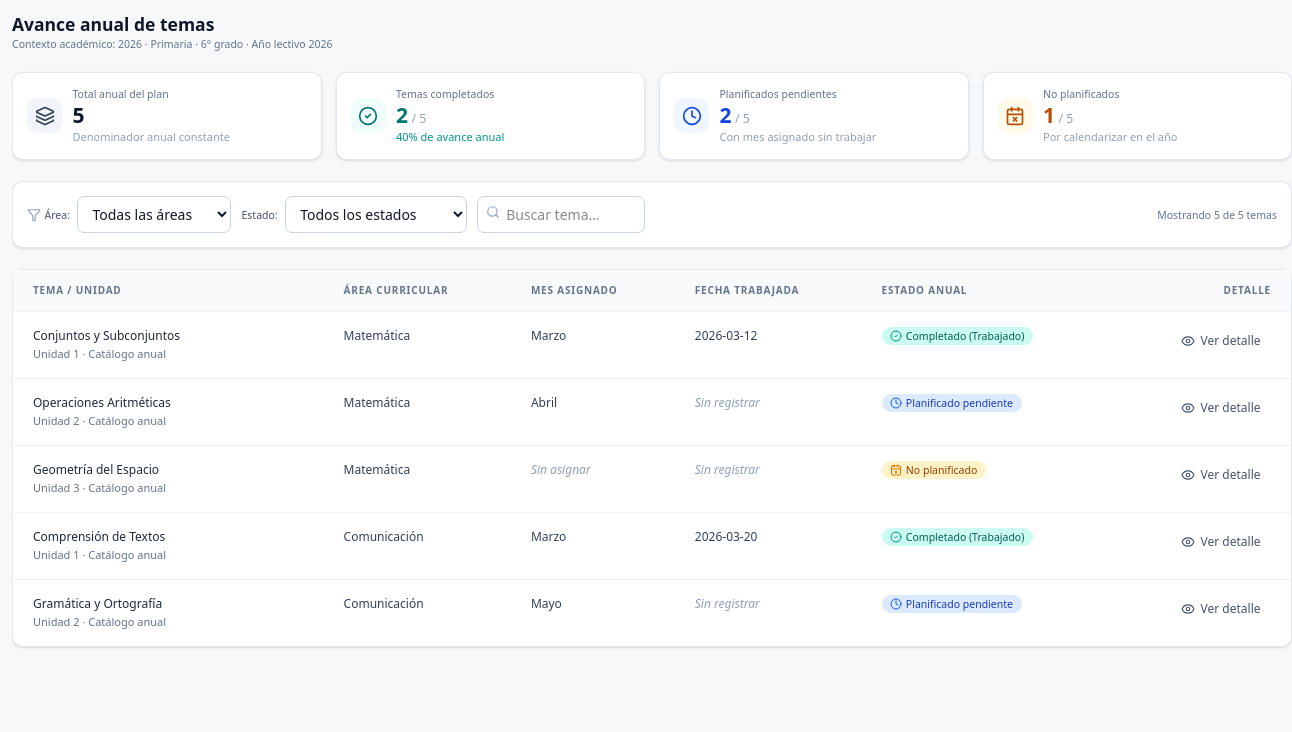
AnnualProgress Component › displays empty state when filters match no topics and allows resetting filters
Expected: the text "Conjuntos y Subconjuntos" is shown, [33,327,180,344]
Filter by Comunicación + NO_PLANIFICADO (which has 0 topics)
Select "Comunicación (2)" in the dropdown named "filtrar por área". click: (154, 214)
box: [77,196,231,233]
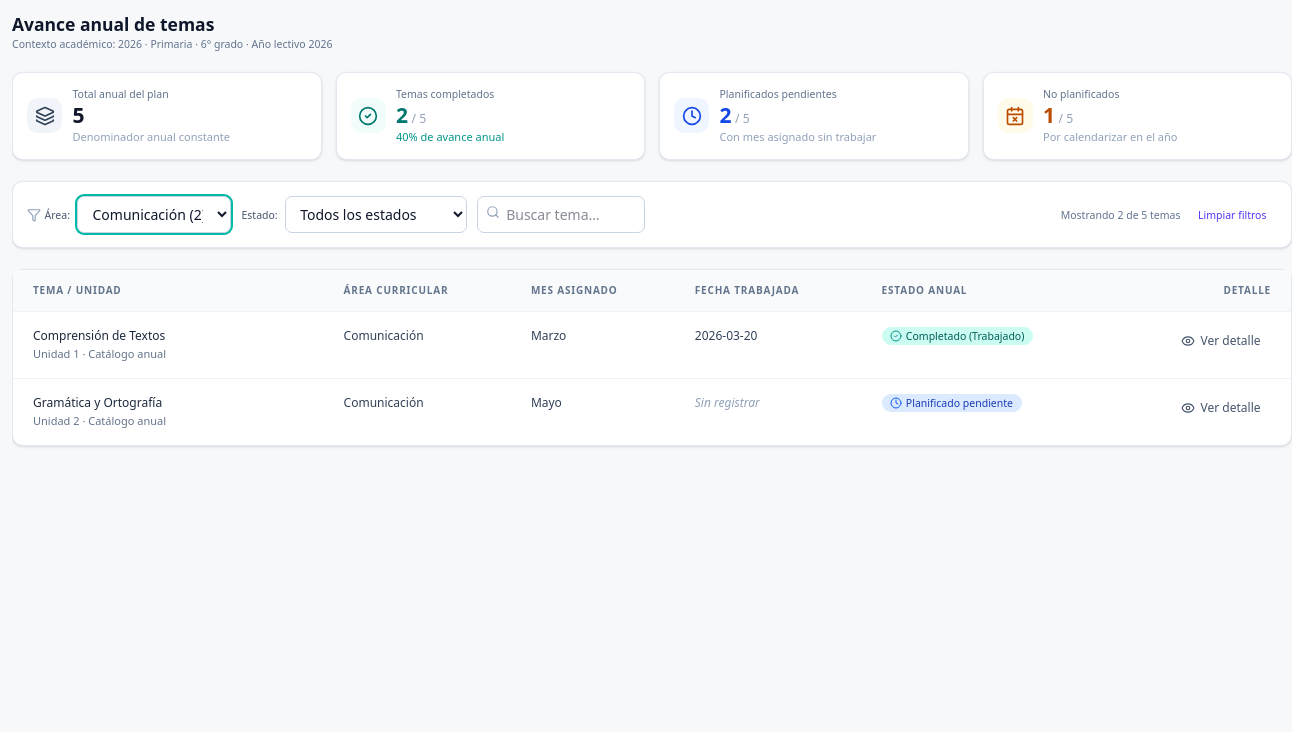
Select "No planificado" in the dropdown named "filtrar por estado". click: (376, 214)
box: [285,196,467,233]
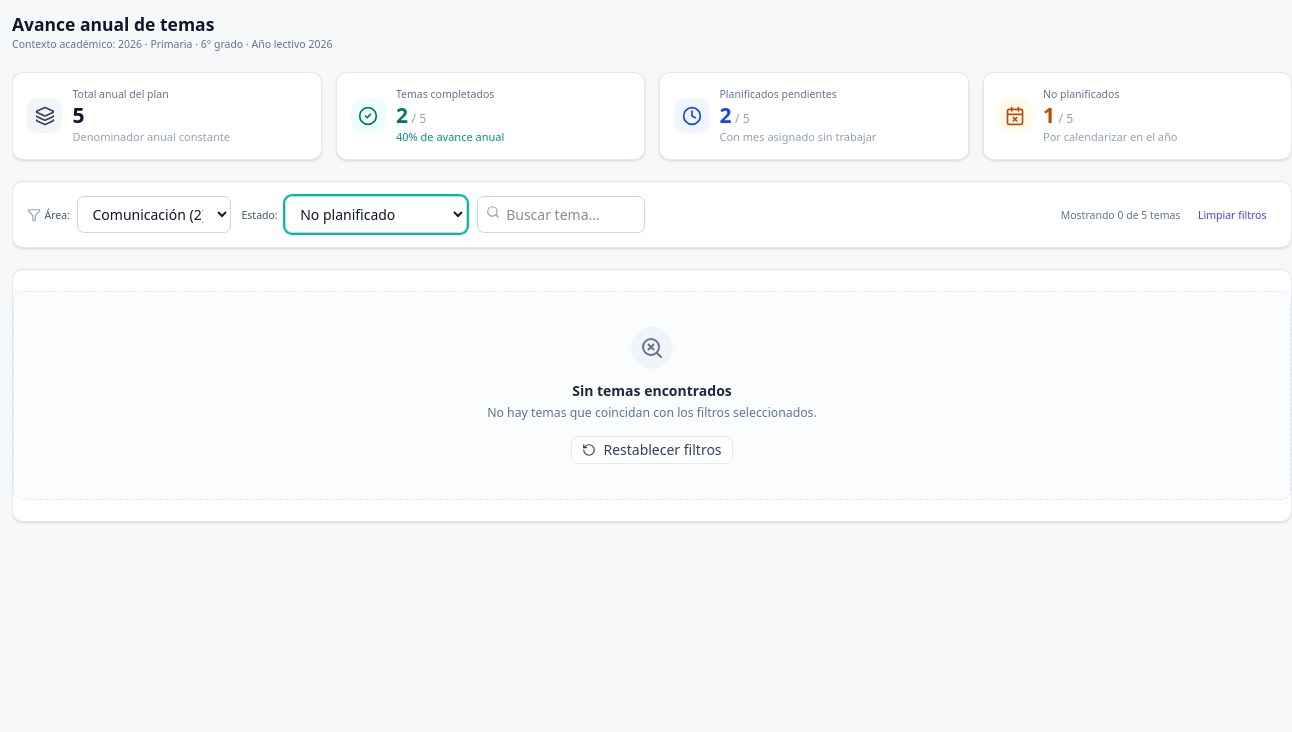
Expected: the text with test id "kpi-total-topics" reads "5", [72,100,84,128]
Expected: the text "No hay temas que coincidan con los filtros seleccionados." is shown, [487,404,817,422]
Click "Restablecer filtros"
Click the button "Restablecer filtros". click: (652, 450)
box: [571,436,733,464]
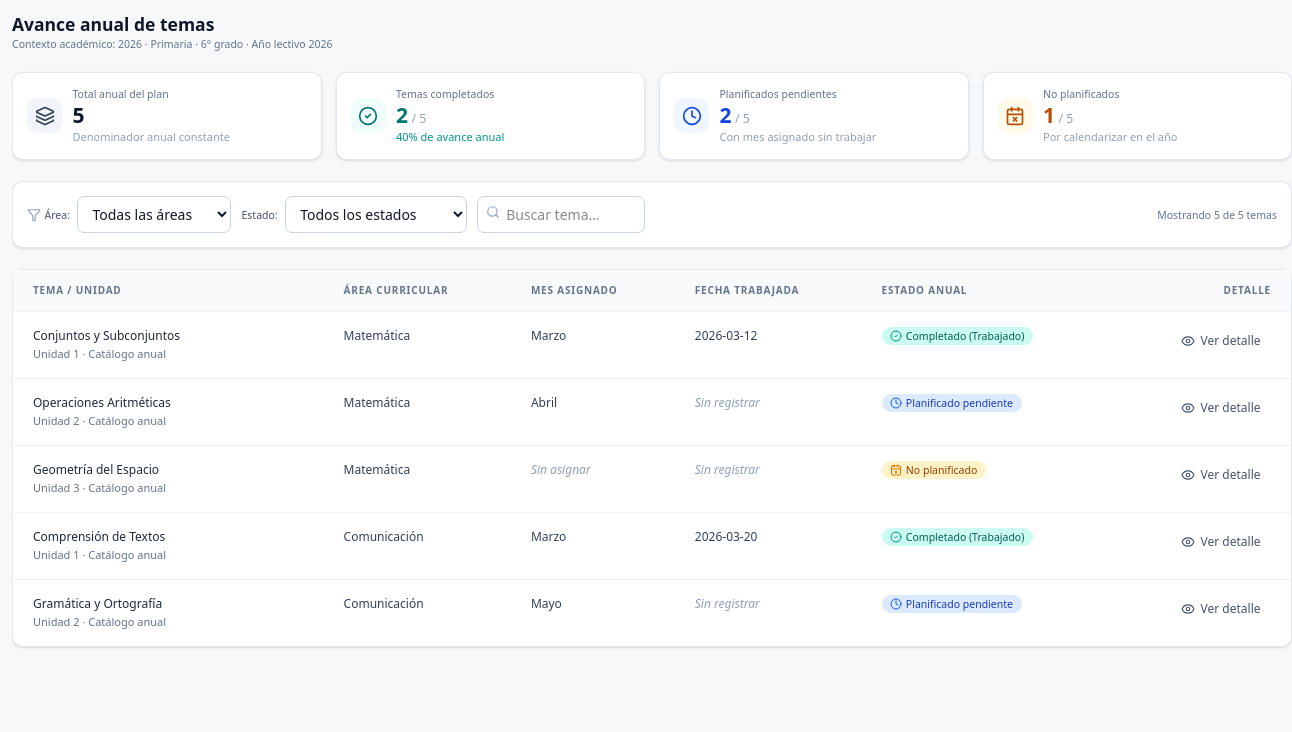
Expected: the text "Conjuntos y Subconjuntos" is shown, [33,327,180,344]
